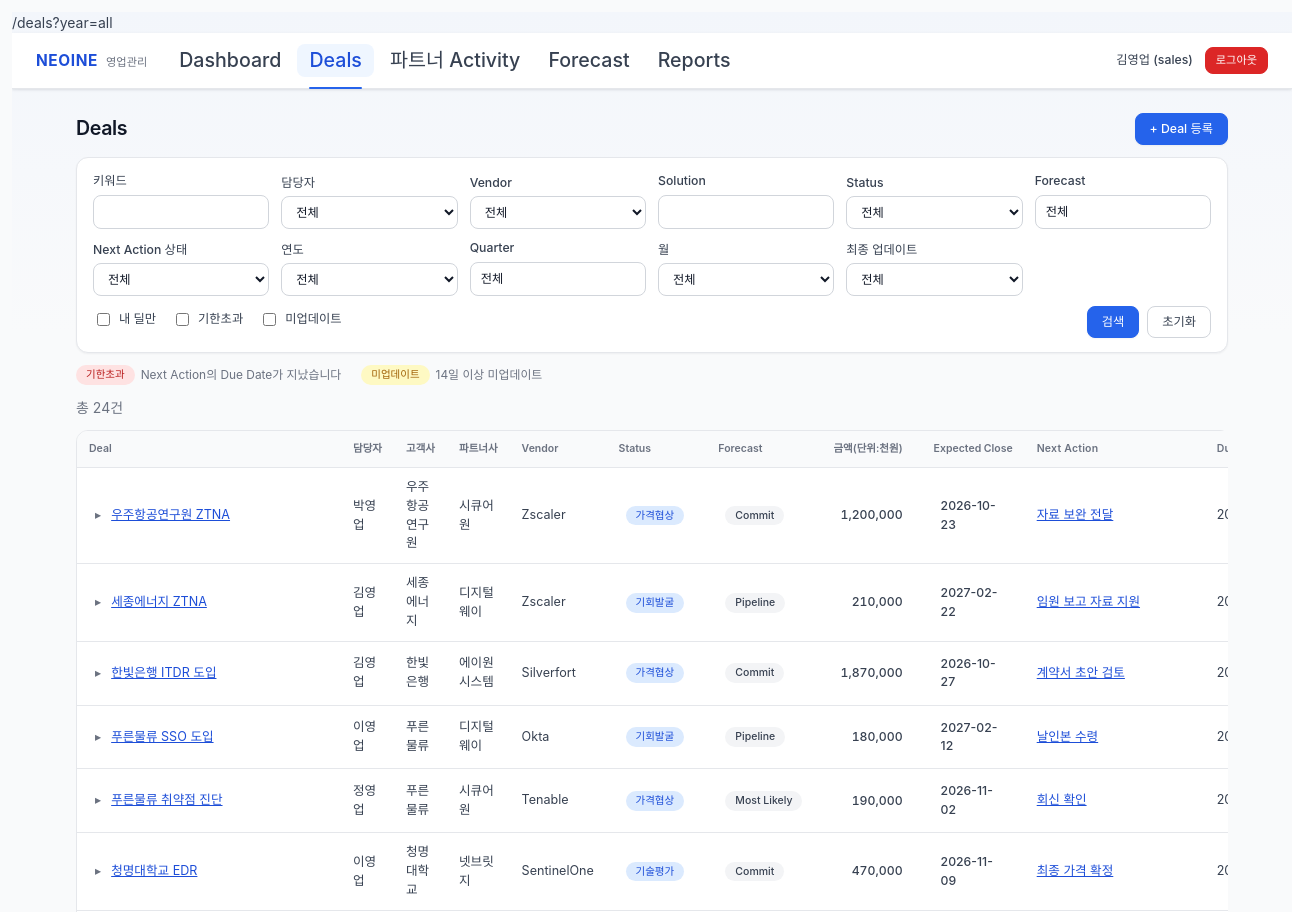
Quarter 단독 선택 (AC-18) › keeps the quarter when a year is chosen later
The width and height of the screenshot is (1292, 912).
Expected: the row "한빛은행 ITDR 도입" is shown, top-left (77, 642), bottom-right (1228, 706)
Expected: the form named "Deal 필터" is shown, top-left (76, 157), bottom-right (1228, 353)
Click the button named "Quarter " at x=558, y=279, box top-left (470, 262), bottom-right (646, 296)
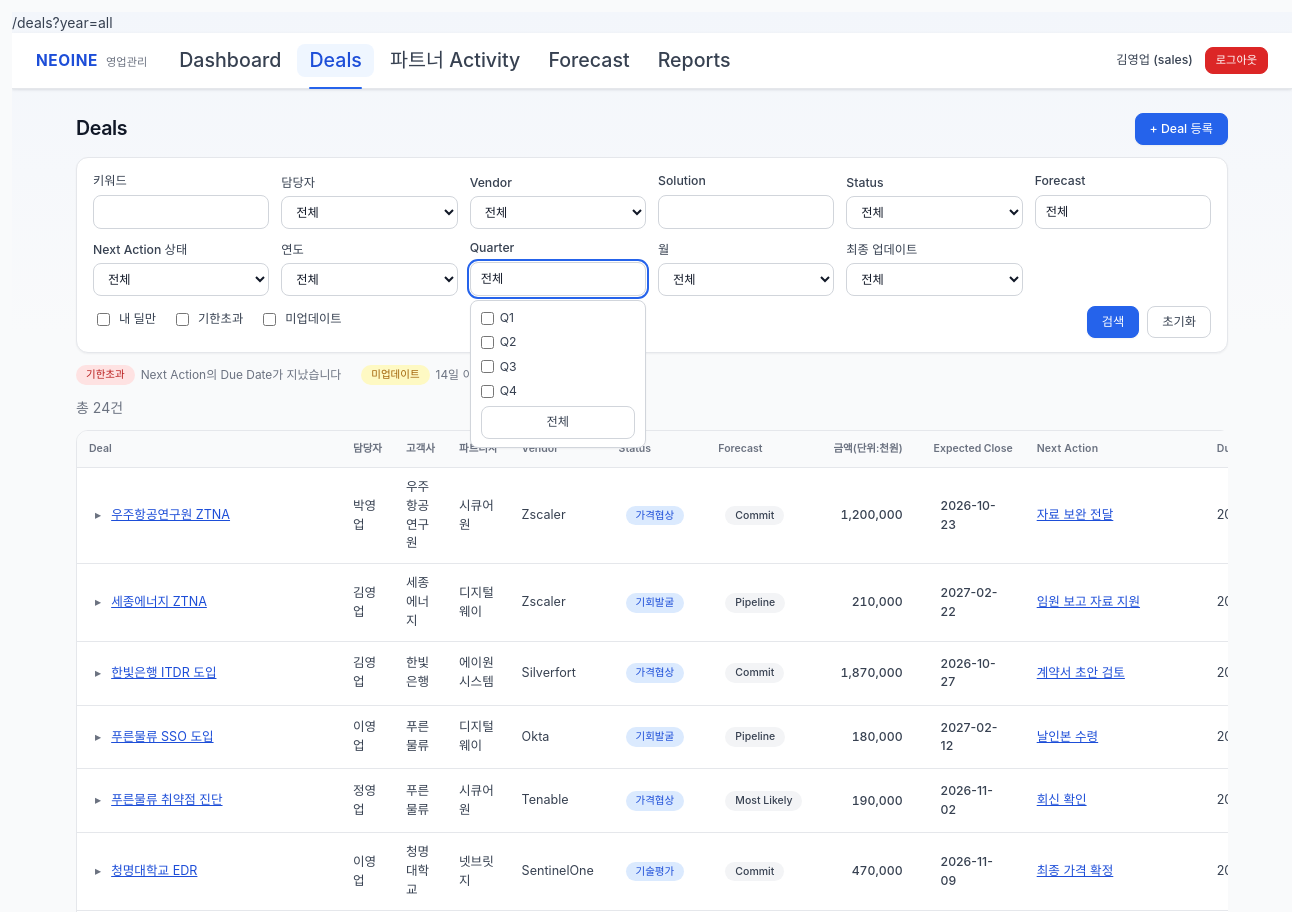
Click the checkbox labelled "Q2" at x=487, y=342, box top-left (481, 336), bottom-right (494, 349)
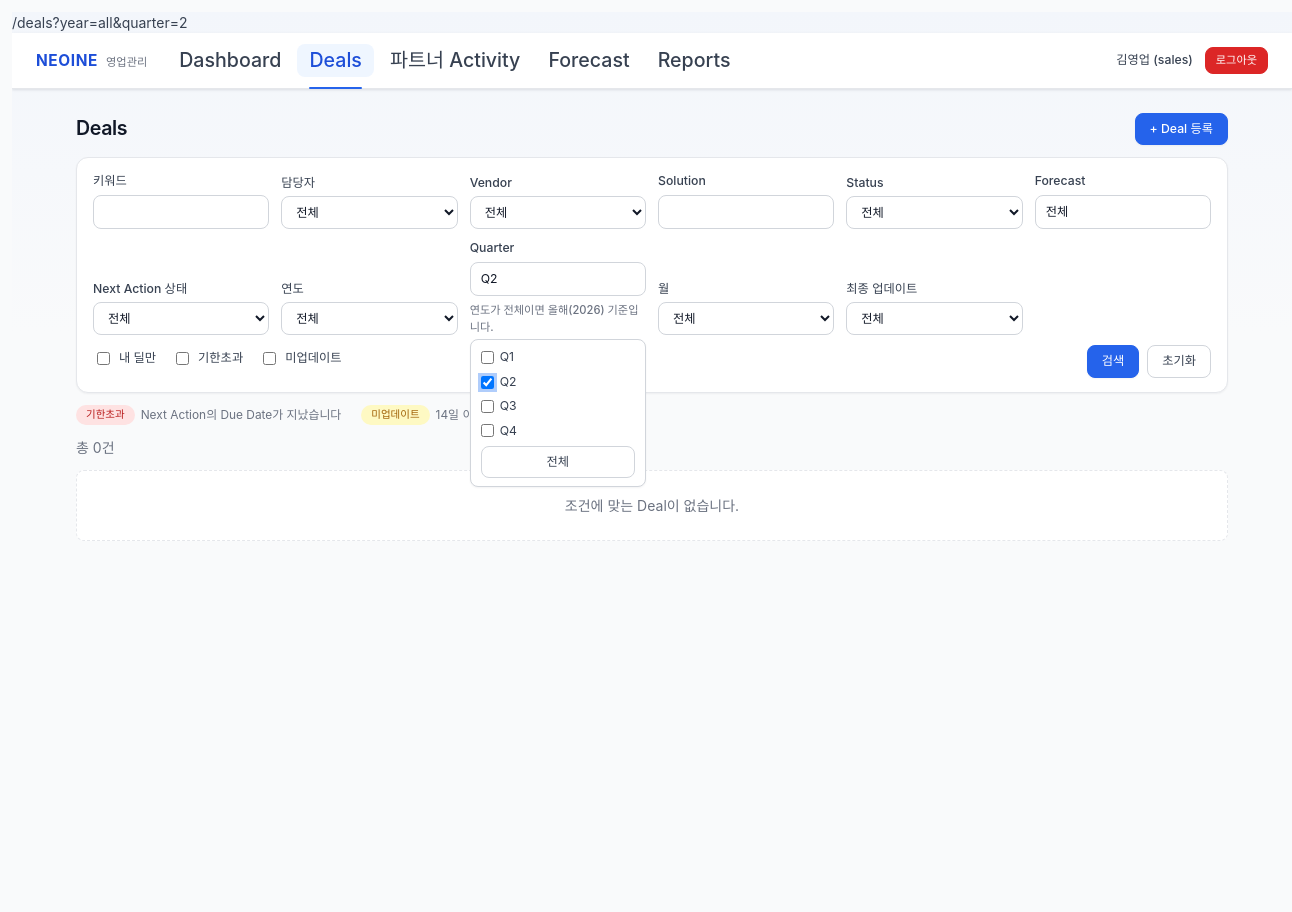
Select "2027" in the dropdown labelled "연도" at x=369, y=319, box top-left (281, 302), bottom-right (458, 336)
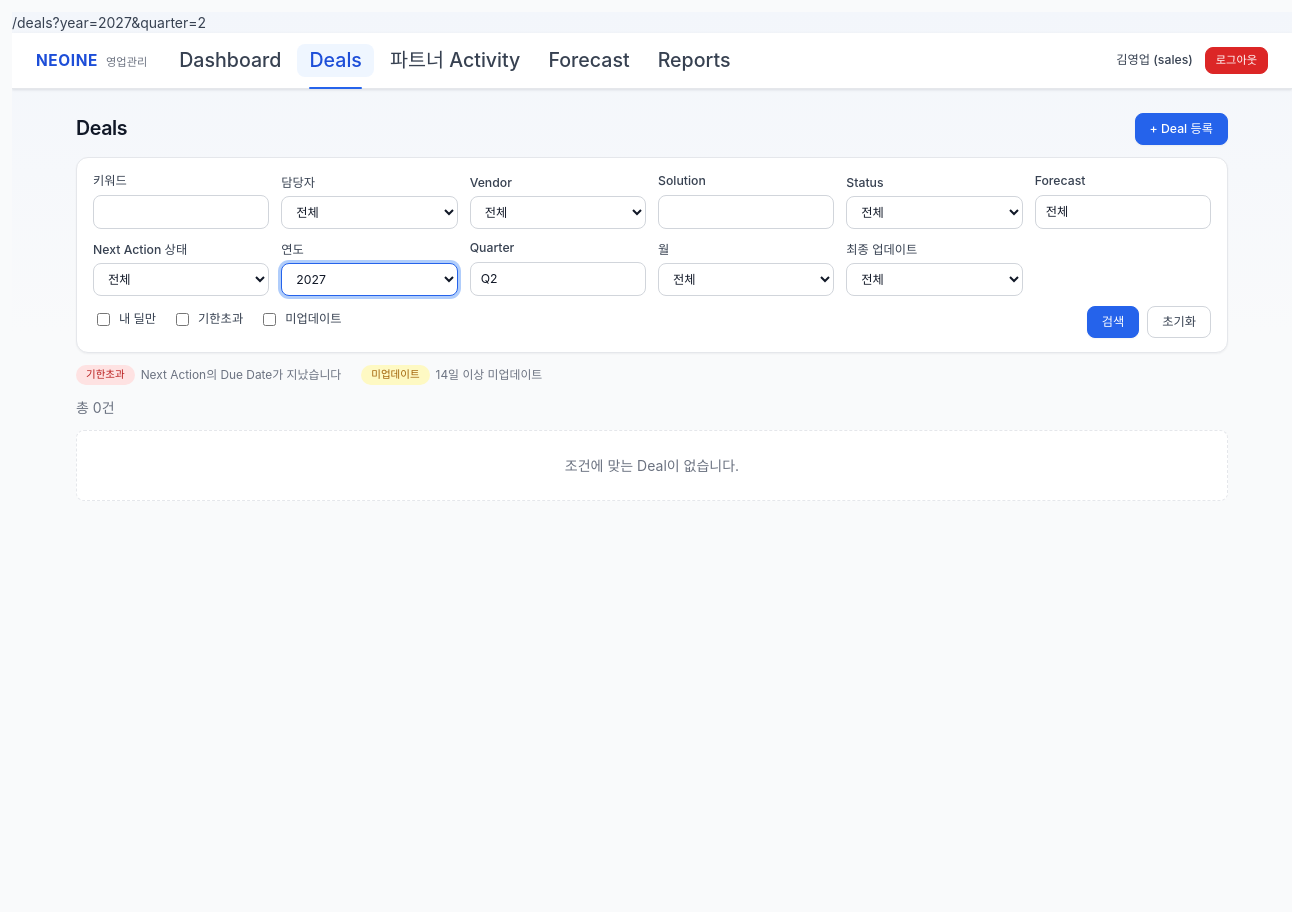
Now the text with test id "location" shows "quarter=2", box top-left (12, 14), bottom-right (206, 31)
Now the text with test id "location" shows "year=2027", box top-left (12, 14), bottom-right (206, 31)
